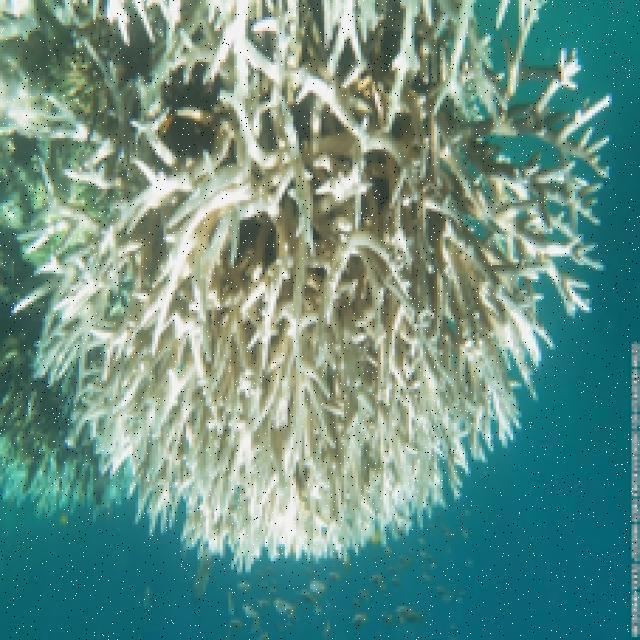Bleached: (28, 1, 617, 580)
